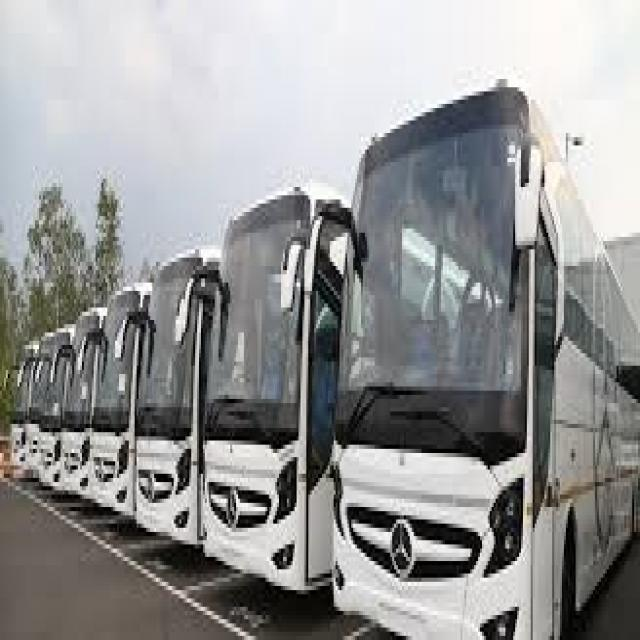bus: (338, 76, 640, 640), (199, 165, 344, 614), (130, 233, 213, 564), (86, 264, 139, 546), (56, 282, 94, 526), (36, 296, 69, 506), (4, 316, 30, 497)
